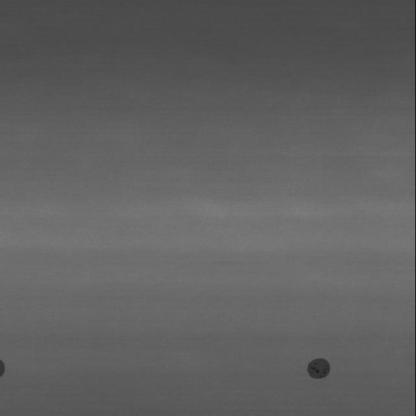oil_spot: (301, 355, 339, 381), (0, 355, 13, 379)
